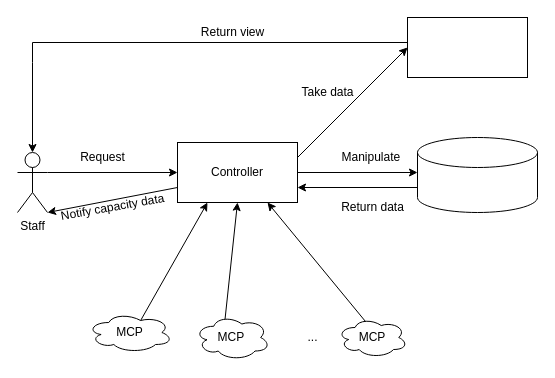
The diagram is 555 pixels wide and 378 high, and some of its shapes have lost their labels. Here are the shapes that lost their labels. From the top down, the centre of each, then its label:
(x=467, y=47): View
(x=477, y=174): Company database
